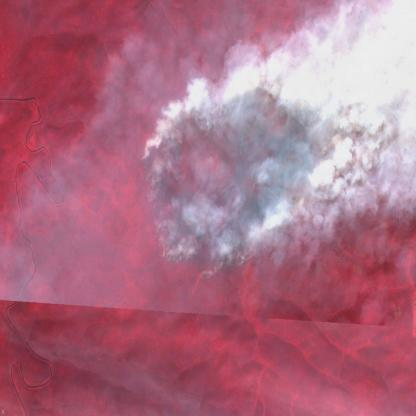fire: (136, 60, 330, 290)
